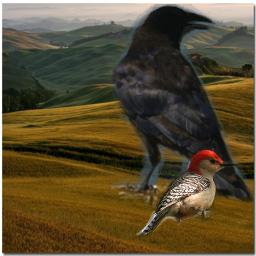Crow: (111, 4, 255, 208)
Woodpecker: (135, 147, 240, 238)
